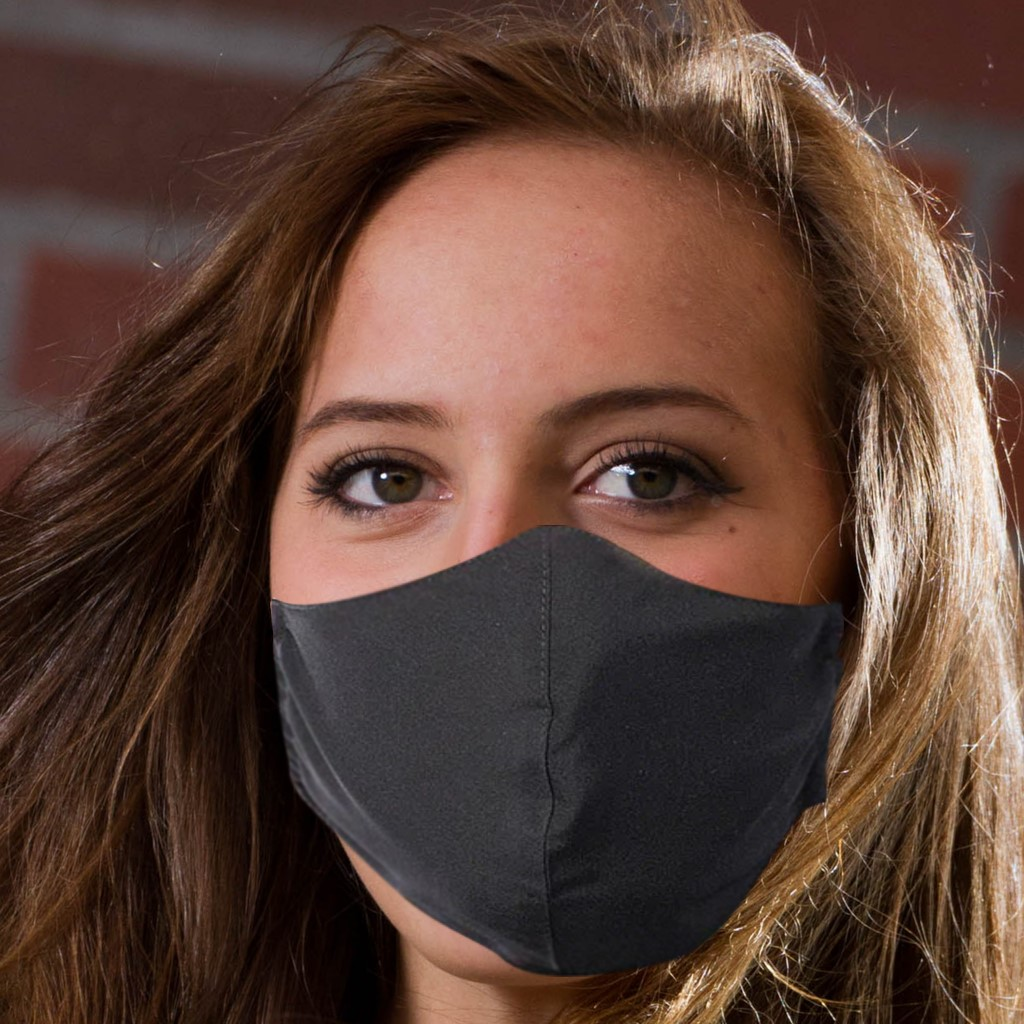con_mascara: (287, 102, 850, 973)
